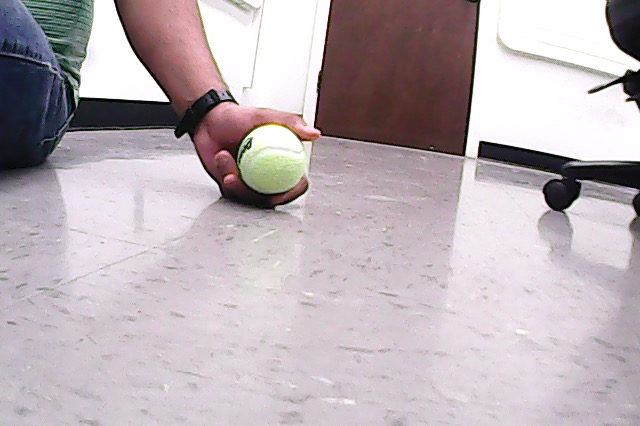ball: (235, 123, 309, 196)
